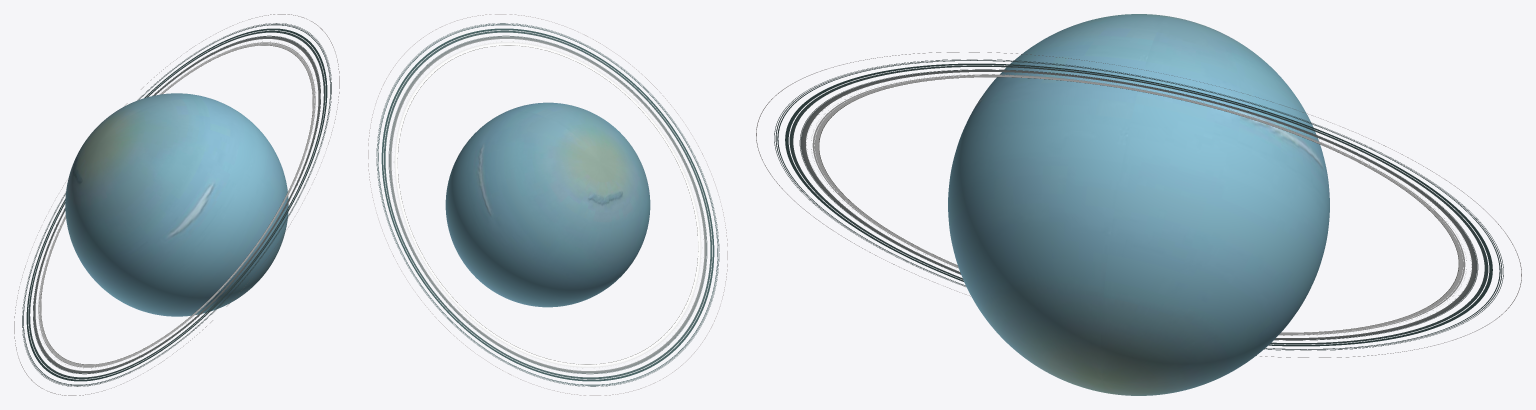
Rendered from uranus.gltf.
The picture shows the model from 3 angles, left to right: view 1: azimuth 30°, elevation 25°; view 2: azimuth 150°, elevation 25°; view 3: azimuth 270°, elevation 25°; orthographic projection. The views are drawn at different scales.
Visible parts, largest first — view 1: node_id5, node_id7; view 2: node_id5, node_id7; view 3: node_id5, node_id7.
Boxes of the visible parts, x1=… form: node_id5: x1=65, y1=93, x2=288, y2=316; node_id7: x1=14, y1=14, x2=339, y2=395; node_id5: x1=445, y1=102, x2=650, y2=307; node_id7: x1=368, y1=14, x2=727, y2=395; node_id5: x1=948, y1=14, x2=1329, y2=395; node_id7: x1=756, y1=52, x2=1521, y2=357.
Size of the model in its own units: 0.3663 by 0.371 by 0.5025.
Materials: 2 (2 with a texture image).
